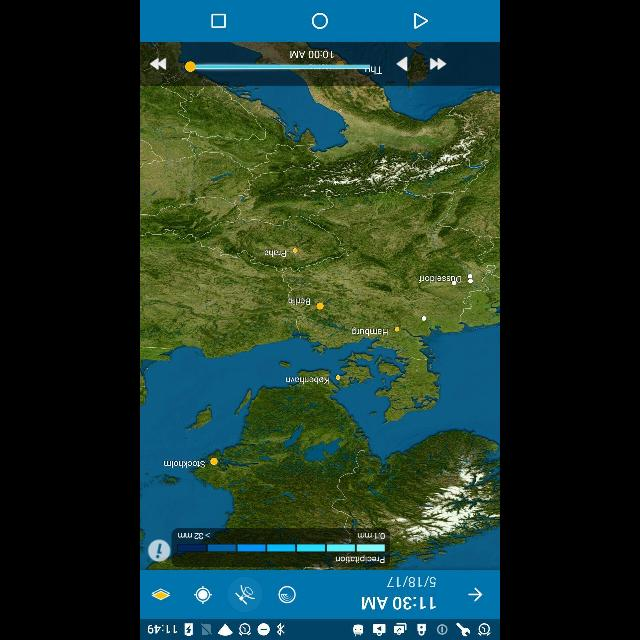icon: (228, 577, 262, 611), (278, 585, 296, 603), (194, 585, 212, 603), (312, 13, 328, 29), (414, 13, 428, 29), (212, 14, 226, 28)
map: (140, 42, 500, 570)
panel: (140, 2, 500, 42)
text: (362, 596, 436, 610), (386, 576, 436, 588), (151, 588, 171, 600), (469, 588, 483, 602)
toolbar: (140, 570, 500, 620)
uppertaskbar: (140, 620, 500, 640)
